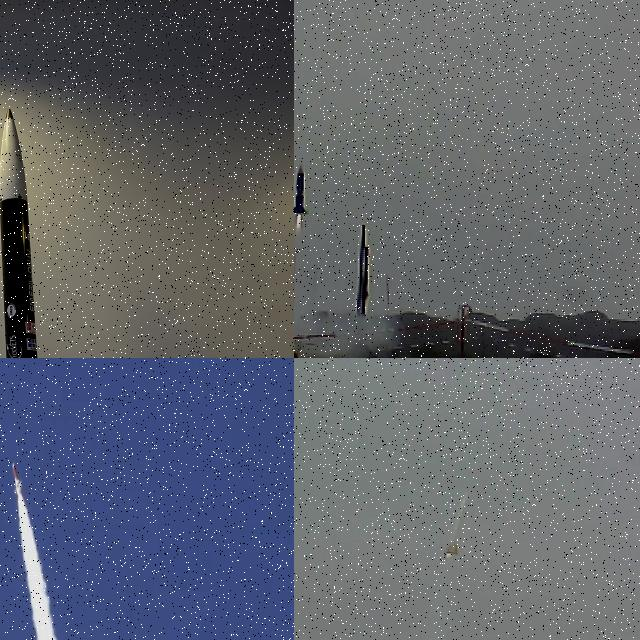Rocket: (0, 108, 38, 358), (445, 490, 468, 555), (294, 161, 307, 214), (12, 461, 24, 492)
